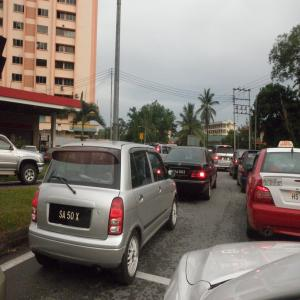Vehicle-registration-plate: (49, 204, 91, 229), (284, 190, 300, 204), (173, 168, 187, 179)
